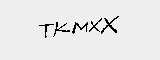К: (53, 19, 70, 39)
М: (72, 19, 90, 37)
Т: (36, 22, 54, 39)
Х: (100, 12, 120, 36), (86, 16, 102, 35)
